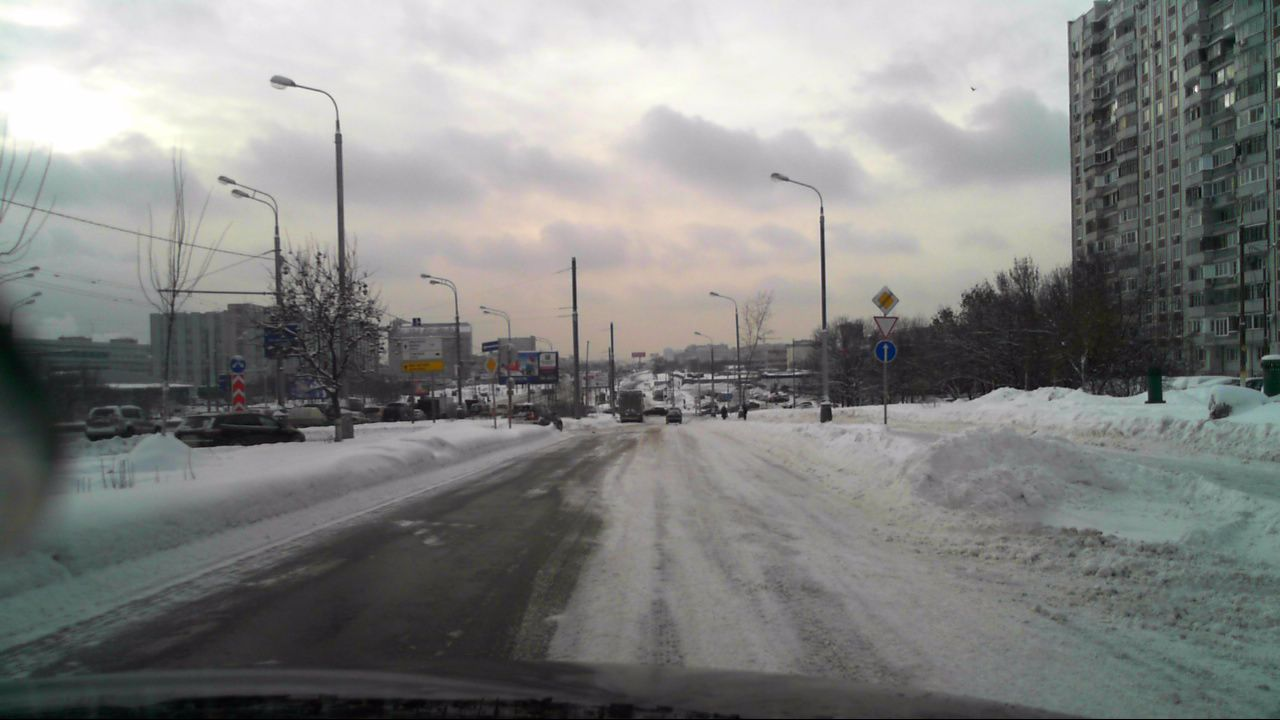main road: (872, 285, 900, 315)
